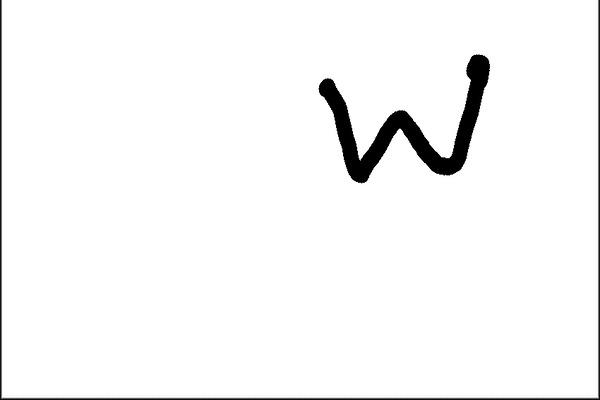w: (292, 42, 529, 200)
